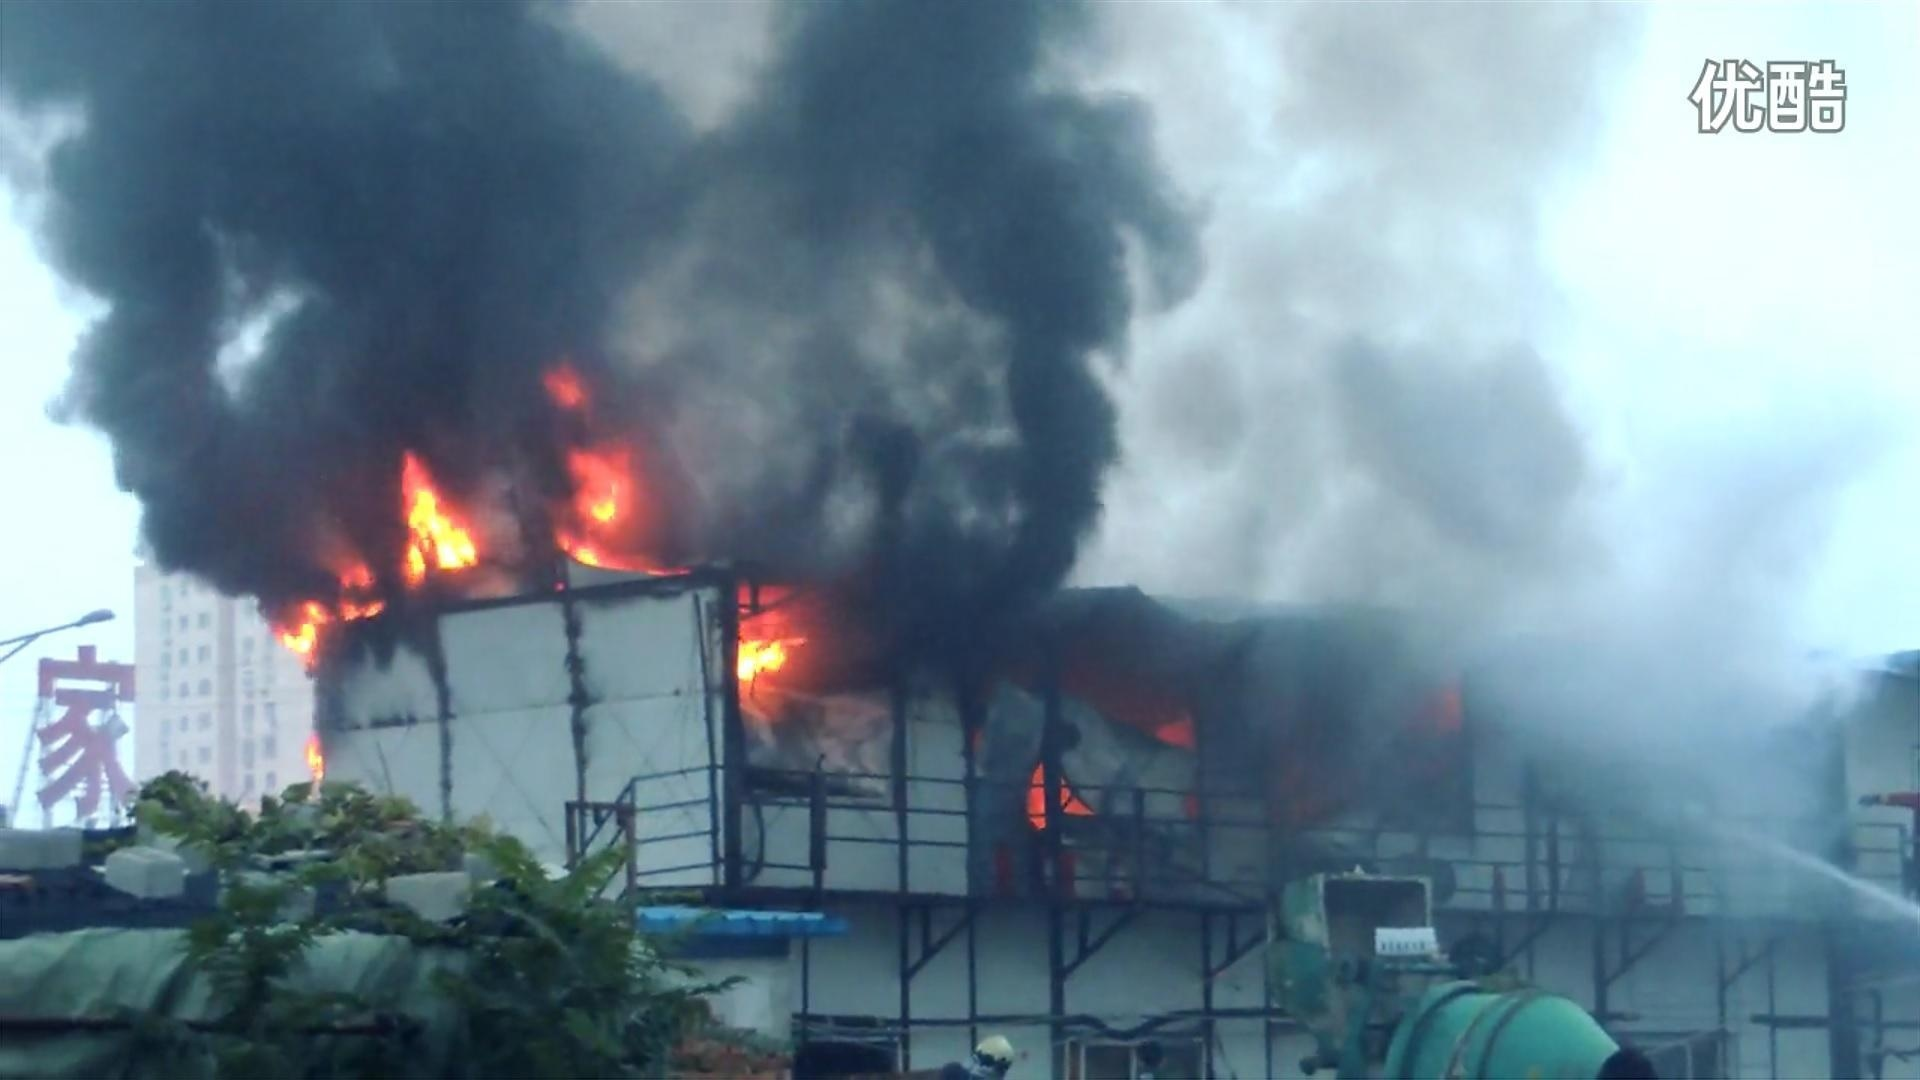fire: (556, 430, 650, 572), (400, 459, 481, 578), (727, 583, 796, 695), (1025, 764, 1087, 827), (297, 732, 328, 783)
